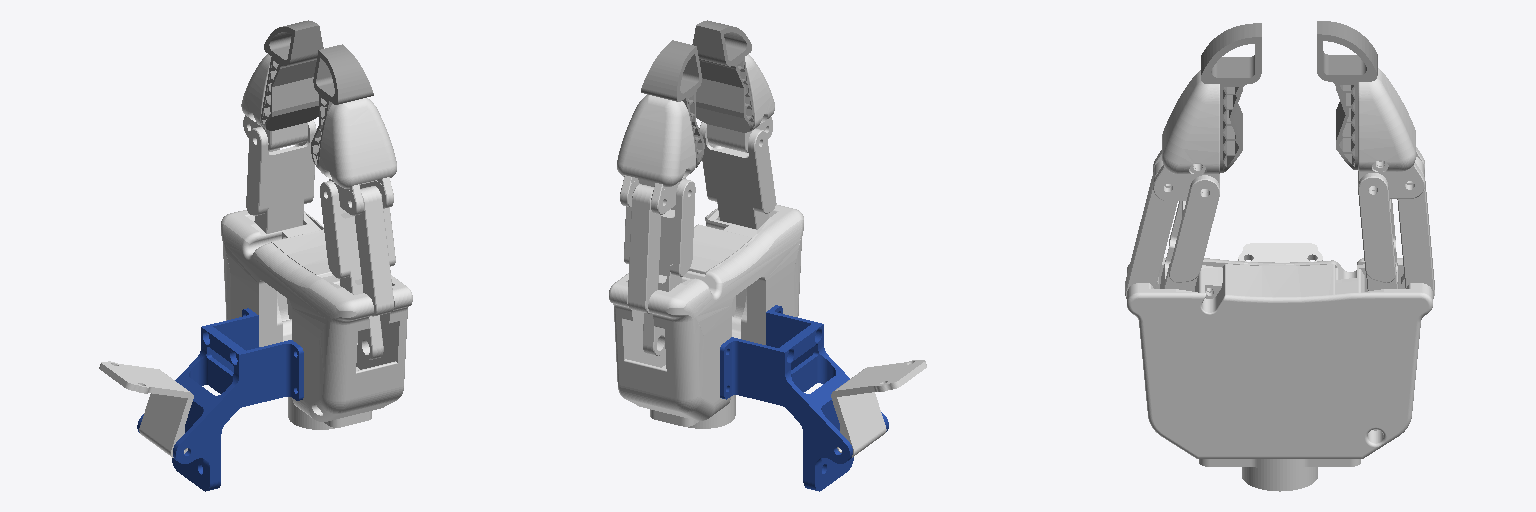
robot.urdf — gripper:
<?xml version="1.0" ?>
<robot name="gripper">
  <link name="gripper_base">
    <inertial>
      <origin xyz="0 0 0" rpy="0 0 0"/>
      <mass value="1e-09"/>
      <inertia ixx="1e-09" ixy="0" ixz="0" iyy="1e-09" iyz="0" izz="1e-09"/>
    </inertial>
  </link>
  <!-- Link interface_arm100 -->
  <link name="interface_arm100">
    <inertial>
      <origin xyz="0 0 0" rpy="0 0 0"/>
      <mass value="1e-09"/>
      <inertia ixx="1e-09" ixy="0" ixz="0" iyy="1e-09" iyz="0" izz="1e-09"/>
    </inertial>
    <!-- Part sts3215_03a_v1_7 -->
    <visual>
      <origin xyz="0.0231 2.4503e-17 -0.0330626" rpy="3.14159 1.5708 0"/>
      <geometry>
        <mesh filename="package://assets/sts3215_03a_v1__3.stl"/>
      </geometry>
      <material name="sts3215_03a_v1_7_material">
        <color rgba="0.627451 0.627451 0.627451 1"/>
      </material>
    </visual>
    <collision>
      <origin xyz="0.0231 2.4503e-17 -0.0330626" rpy="3.14159 1.5708 0"/>
      <geometry>
        <mesh filename="package://assets/sts3215_03a_v1__3.stl"/>
      </geometry>
    </collision>
    <!-- Part bottom_plate -->
    <visual>
      <origin xyz="0 1.01915e-17 -0.063609" rpy="6.12323e-17 1.5708 0"/>
      <geometry>
        <mesh filename="package://assets/bottom_plate.stl"/>
      </geometry>
      <material name="bottom_plate_material">
        <color rgba="0.901961 0.901961 0.901961 1"/>
      </material>
    </visual>
    <collision>
      <origin xyz="0 1.01915e-17 -0.063609" rpy="6.12323e-17 1.5708 0"/>
      <geometry>
        <mesh filename="package://assets/bottom_plate.stl"/>
      </geometry>
    </collision>
    <!-- Part top_plate -->
    <visual>
      <origin xyz="5.55112e-17 6.72205e-18 -0.063609" rpy="-8.26946e-16 1.5708 0"/>
      <geometry>
        <mesh filename="package://assets/top_plate.stl"/>
      </geometry>
      <material name="top_plate_material">
        <color rgba="0.901961 0.901961 0.901961 1"/>
      </material>
    </visual>
    <collision>
      <origin xyz="5.55112e-17 6.72205e-18 -0.063609" rpy="-8.26946e-16 1.5708 0"/>
      <geometry>
        <mesh filename="package://assets/top_plate.stl"/>
      </geometry>
    </collision>
    <!-- Part camera_basement -->
    <visual>
      <origin xyz="2.77556e-17 6.72205e-18 -0.063609" rpy="-8.26946e-16 1.5708 0"/>
      <geometry>
        <mesh filename="package://assets/camera_basement.stl"/>
      </geometry>
      <material name="camera_basement_material">
        <color rgba="0.231373 0.380392 0.705882 1"/>
      </material>
    </visual>
    <collision>
      <origin xyz="2.77556e-17 6.72205e-18 -0.063609" rpy="-8.26946e-16 1.5708 0"/>
      <geometry>
        <mesh filename="package://assets/camera_basement.stl"/>
      </geometry>
    </collision>
    <!-- Part camera_mobile_sup -->
    <visual>
      <origin xyz="0.060363 0.0002 0.0821203" rpy="-3.14159 -0.785398 -5.70839e-16"/>
      <geometry>
        <mesh filename="package://assets/camera_mobile_sup.stl"/>
      </geometry>
      <material name="camera_mobile_sup_material">
        <color rgba="0.917647 0.917647 0.917647 1"/>
      </material>
    </visual>
    <collision>
      <origin xyz="0.060363 0.0002 0.0821203" rpy="-3.14159 -0.785398 -5.70839e-16"/>
      <geometry>
        <mesh filename="package://assets/camera_mobile_sup.stl"/>
      </geometry>
    </collision>
    <!-- Part interface_arm100 -->
    <visual>
      <origin xyz="2.77556e-17 -2.1684e-19 -0.063609" rpy="6.12323e-17 1.5708 0"/>
      <geometry>
        <mesh filename="package://assets/interface_arm100.stl"/>
      </geometry>
      <material name="interface_arm100_material">
        <color rgba="0.901961 0.901961 0.901961 1"/>
      </material>
    </visual>
    <collision>
      <origin xyz="2.77556e-17 -2.1684e-19 -0.063609" rpy="6.12323e-17 1.5708 0"/>
      <geometry>
        <mesh filename="package://assets/interface_arm100.stl"/>
      </geometry>
    </collision>
  </link>
  <!-- Frame gripper_frame (dummy link + fixed joint) -->
  <link name="tcp_link">
    <origin xyz="0 0 0" rpy="0 -0 0"/>
    <inertial>
      <origin xyz="0 0 0" rpy="0 0 0"/>
      <mass value="1e-9"/>
      <inertia ixx="0" ixy="0" ixz="0" iyy="0" iyz="0" izz="0"/>
    </inertial>
  </link>
  <joint name="gripper_frame_fixed_joint" type="fixed">
    <origin xyz="0.0 0.0 0.123609" rpy="0 0 0"/>
    <parent link="cam"/>
    <child link="tcp_link"/>
    <axis xyz="0 0 0"/>
  </joint>
  <!-- Link internal_rod -->
  <link name="internal_rod">
    <inertial>
      <origin xyz="0 0 0" rpy="0 0 0"/>
      <mass value="1e-09"/>
      <inertia ixx="1e-09" ixy="0" ixz="0" iyy="1e-09" iyz="0" izz="1e-09"/>
    </inertial>
    <!-- Part internal_rod -->
    <visual>
      <origin xyz="-5.55112e-17 0.0325 0.008" rpy="-3.87944e-26 1.48625e-24 2.68045e-17"/>
      <geometry>
        <mesh filename="package://assets/internal_rod.stl"/>
      </geometry>
      <material name="internal_rod_material">
        <color rgba="0.901961 0.901961 0.901961 1"/>
      </material>
    </visual>
    <collision>
      <origin xyz="-5.55112e-17 0.0325 0.008" rpy="-3.87944e-26 1.48625e-24 2.68045e-17"/>
      <geometry>
        <mesh filename="package://assets/internal_rod.stl"/>
      </geometry>
    </collision>
  </link>
  <!-- Joint from interface_arm100 to internal_rod -->
  <joint name="Revolute 7" type="fixed">
    <origin xyz="-0.0088 -0.0325 -0.063609" rpy="-1.5708 1.27489 -1.5708"/>
    <parent link="interface_arm100"/>
    <child link="internal_rod"/>
    <axis xyz="0 0 1"/>
    <limit effort="10" velocity="10" lower="-3.141592653589793" upper="3.141592653589793"/>
  </joint>
  <!-- Link external_rod -->
  <link name="external_rod">
    <inertial>
      <origin xyz="0 0 0" rpy="0 0 0"/>
      <mass value="1e-09"/>
      <inertia ixx="1e-09" ixy="0" ixz="0" iyy="1e-09" iyz="0" izz="1e-09"/>
    </inertial>
    <!-- Part external_rod -->
    <visual>
      <origin xyz="2.77556e-17 0.044 -0.004" rpy="-1.15988e-24 2.30841e-24 -2.90443e-17"/>
      <geometry>
        <mesh filename="package://assets/external_rod.stl"/>
      </geometry>
      <material name="external_rod_material">
        <color rgba="0.901961 0.901961 0.901961 1"/>
      </material>
    </visual>
    <collision>
      <origin xyz="2.77556e-17 0.044 -0.004" rpy="-1.15988e-24 2.30841e-24 -2.90443e-17"/>
      <geometry>
        <mesh filename="package://assets/external_rod.stl"/>
      </geometry>
    </collision>
  </link>
  <!-- Link distal_shell -->
  <link name="distal_shell">
    <inertial>
      <origin xyz="0 0 0" rpy="0 0 0"/>
      <mass value="1e-09"/>
      <inertia ixx="1e-09" ixy="0" ixz="0" iyy="1e-09" iyz="0" izz="1e-09"/>
    </inertial>
    <!-- Part removable_tip -->
    <visual>
      <origin xyz="-0.034641 0.024 -0.0049" rpy="2.22045e-16 -3.34777e-16 1.11936e-25"/>
      <geometry>
        <mesh filename="package://assets/removable_tip.stl"/>
      </geometry>
      <material name="removable_tip_material">
        <color rgba="0.901961 0.901961 0.901961 1"/>
      </material>
    </visual>
    <collision>
      <origin xyz="-0.034641 0.024 -0.0049" rpy="2.22045e-16 -3.34777e-16 1.11936e-25"/>
      <geometry>
        <mesh filename="package://assets/removable_tip.stl"/>
      </geometry>
    </collision>
    <!-- Part distal_rod -->
    <visual>
      <origin xyz="-0.034641 0.024 -0.0048" rpy="5.40089e-25 7.43447e-25 -7.53612e-25"/>
      <geometry>
        <mesh filename="package://assets/distal_rod.stl"/>
      </geometry>
      <material name="distal_rod_material">
        <color rgba="0.901961 0.901961 0.901961 1"/>
      </material>
    </visual>
    <collision>
      <origin xyz="-0.034641 0.024 -0.0048" rpy="5.40089e-25 7.43447e-25 -7.53612e-25"/>
      <geometry>
        <mesh filename="package://assets/distal_rod.stl"/>
      </geometry>
    </collision>
    <!-- Part pointy_tip_support -->
    <visual>
      <origin xyz="-0.0346303 0.02375 -0.0049" rpy="-4.44089e-16 -2.78697e-16 5.60793e-17"/>
      <geometry>
        <mesh filename="package://assets/pointy_tip_support.stl"/>
      </geometry>
      <material name="pointy_tip_support_material">
        <color rgba="0.647059 0.647059 0.647059 1"/>
      </material>
    </visual>
    <collision>
      <origin xyz="-0.0346303 0.02375 -0.0049" rpy="-4.44089e-16 -2.78697e-16 5.60793e-17"/>
      <geometry>
        <mesh filename="package://assets/pointy_tip_support.stl"/>
      </geometry>
    </collision>
    <!-- Part distal_shell -->
    <visual>
      <origin xyz="-0.034641 0.024 -0.0051" rpy="2.22045e-16 -3.3475e-16 6.72905e-24"/>
      <geometry>
        <mesh filename="package://assets/distal_shell.stl"/>
      </geometry>
      <material name="distal_shell_material">
        <color rgba="0.901961 0.901961 0.901961 1"/>
      </material>
    </visual>
    <collision>
      <origin xyz="-0.034641 0.024 -0.0051" rpy="2.22045e-16 -3.3475e-16 6.72905e-24"/>
      <geometry>
        <mesh filename="package://assets/distal_shell.stl"/>
      </geometry>
    </collision>
  </link>
  <!-- Joint from external_rod to distal_shell -->
  <joint name="Revolute 9" type="fixed">
    <origin xyz="0.034641 0.02 -0.008" rpy="-3.14159 5.60794e-17 0.751294"/>
    <parent link="external_rod"/>
    <child link="distal_shell"/>
    <axis xyz="0 0 1"/>
    <limit effort="10" velocity="10" lower="-3.141592653589793" upper="3.141592653589793"/>
  </joint>
  <!-- Joint from interface_arm100 to external_rod -->
  <joint name="Revolute 8" type="fixed">
    <origin xyz="-0.0042 -0.044 -0.063609" rpy="-1.5708 0.819502 1.5708"/>
    <parent link="interface_arm100"/>
    <child link="external_rod"/>
    <axis xyz="0 0 1"/>
    <limit effort="10" velocity="10" lower="-3.141592653589793" upper="3.141592653589793"/>
  </joint>
  <!-- Link internal_rod_2 -->
  <link name="internal_rod_2">
    <inertial>
      <origin xyz="0 0 0" rpy="0 0 0"/>
      <mass value="1e-09"/>
      <inertia ixx="1e-09" ixy="0" ixz="0" iyy="1e-09" iyz="0" izz="1e-09"/>
    </inertial>
    <!-- Part internal_rod_2 -->
    <visual>
      <origin xyz="0 0.0325 -0.008" rpy="1.83078e-24 -4.24704e-26 -6.94757e-18"/>
      <geometry>
        <mesh filename="package://assets/internal_rod.stl"/>
      </geometry>
      <material name="internal_rod_2_material">
        <color rgba="0.901961 0.901961 0.901961 1"/>
      </material>
    </visual>
    <collision>
      <origin xyz="0 0.0325 -0.008" rpy="1.83078e-24 -4.24704e-26 -6.94757e-18"/>
      <geometry>
        <mesh filename="package://assets/internal_rod.stl"/>
      </geometry>
    </collision>
  </link>
  <!-- Joint from interface_arm100 to internal_rod_2 -->
  <joint name="Revolute 14" type="fixed">
    <origin xyz="-0.0088 0.0325 -0.063609" rpy="-1.5708 1.12911 1.5708"/>
    <parent link="interface_arm100"/>
    <child link="internal_rod_2"/>
    <axis xyz="0 0 1"/>
    <limit effort="10" velocity="10" lower="-3.141592653589793" upper="3.141592653589793"/>
  </joint>
  <!-- Link external_rod_2 -->
  <link name="external_rod_2">
    <inertial>
      <origin xyz="0 0 0" rpy="0 0 0"/>
      <mass value="1e-09"/>
      <inertia ixx="1e-09" ixy="0" ixz="0" iyy="1e-09" iyz="0" izz="1e-09"/>
    </inertial>
    <!-- Part external_rod_2 -->
    <visual>
      <origin xyz="0 0.044 -0.004" rpy="5.48982e-26 -2.12352e-25 -1.01668e-17"/>
      <geometry>
        <mesh filename="package://assets/external_rod.stl"/>
      </geometry>
      <material name="external_rod_2_material">
        <color rgba="0.901961 0.901961 0.901961 1"/>
      </material>
    </visual>
    <collision>
      <origin xyz="0 0.044 -0.004" rpy="5.48982e-26 -2.12352e-25 -1.01668e-17"/>
      <geometry>
        <mesh filename="package://assets/external_rod.stl"/>
      </geometry>
    </collision>
  </link>
  <!-- Link distal_shell_2 -->
  <link name="distal_shell_2">
    <inertial>
      <origin xyz="0 0 0" rpy="0 0 0"/>
      <mass value="1e-09"/>
      <inertia ixx="1e-09" ixy="0" ixz="0" iyy="1e-09" iyz="0" izz="1e-09"/>
    </inertial>
    <!-- Part pointy_tip_support_2 -->
    <visual>
      <origin xyz="-0.0346303 0.02375 0.0049" rpy="-2.76863e-24 -1.66578e-16 1.04083e-17"/>
      <geometry>
        <mesh filename="package://assets/pointy_tip_support.stl"/>
      </geometry>
      <material name="pointy_tip_support_2_material">
        <color rgba="0.647059 0.647059 0.647059 1"/>
      </material>
    </visual>
    <collision>
      <origin xyz="-0.0346303 0.02375 0.0049" rpy="-2.76863e-24 -1.66578e-16 1.04083e-17"/>
      <geometry>
        <mesh filename="package://assets/pointy_tip_support.stl"/>
      </geometry>
    </collision>
    <!-- Part distal_rod_2 -->
    <visual>
      <origin xyz="-0.034641 0.024 0.0048" rpy="5.40089e-25 -7.43447e-25 2.36377e-24"/>
      <geometry>
        <mesh filename="package://assets/distal_rod.stl"/>
      </geometry>
      <material name="distal_rod_2_material">
        <color rgba="0.901961 0.901961 0.901961 1"/>
      </material>
    </visual>
    <collision>
      <origin xyz="-0.034641 0.024 0.0048" rpy="5.40089e-25 -7.43447e-25 2.36377e-24"/>
      <geometry>
        <mesh filename="package://assets/distal_rod.stl"/>
      </geometry>
    </collision>
    <!-- Part distal_shell_2 -->
    <visual>
      <origin xyz="-0.034641 0.024 0.0051" rpy="5.40089e-25 -1.89597e-20 3.46945e-18"/>
      <geometry>
        <mesh filename="package://assets/distal_shell.stl"/>
      </geometry>
      <material name="distal_shell_2_material">
        <color rgba="0.901961 0.901961 0.901961 1"/>
      </material>
    </visual>
    <collision>
      <origin xyz="-0.034641 0.024 0.0051" rpy="5.40089e-25 -1.89597e-20 3.46945e-18"/>
      <geometry>
        <mesh filename="package://assets/distal_shell.stl"/>
      </geometry>
    </collision>
    <!-- Part removable_tip_2 -->
    <visual>
      <origin xyz="-0.034641 0.024 0.0049" rpy="1.54293e-23 -1.54999e-15 -6.60062e-16"/>
      <geometry>
        <mesh filename="package://assets/removable_tip.stl"/>
      </geometry>
      <material name="removable_tip_2_material">
        <color rgba="0.901961 0.901961 0.901961 1"/>
      </material>
    </visual>
    <collision>
      <origin xyz="-0.034641 0.024 0.0049" rpy="1.54293e-23 -1.54999e-15 -6.60062e-16"/>
      <geometry>
        <mesh filename="package://assets/removable_tip.stl"/>
      </geometry>
    </collision>
  </link>
  <!-- Joint from external_rod_2 to distal_shell_2 -->
  <joint name="Revolute 16" type="fixed">
    <origin xyz="0.034641 0.02 -0.008" rpy="1.11022e-15 -1.1989e-23 0.441689"/>
    <parent link="external_rod_2"/>
    <child link="distal_shell_2"/>
    <axis xyz="0 0 1"/>
    <limit effort="10" velocity="10" lower="-3.141592653589793" upper="3.141592653589793"/>
  </joint>
  <!-- Joint from interface_arm100 to external_rod_2 -->
  <joint name="Revolute 15" type="fixed">
    <origin xyz="-0.0042 0.044 -0.063609" rpy="-1.5708 1.12911 1.5708"/>
    <parent link="interface_arm100"/>
    <child link="external_rod_2"/>
    <axis xyz="0 0 1"/>
    <limit effort="10" velocity="10" lower="-3.141592653589793" upper="3.141592653589793"/>
  </joint>
  <!-- Link cam -->
  <link name="cam">
    <inertial>
      <origin xyz="0 0 0" rpy="0 0 0"/>
      <mass value="1e-09"/>
      <inertia ixx="1e-09" ixy="0" ixz="0" iyy="1e-09" iyz="0" izz="1e-09"/>
    </inertial>
    <!-- Part cam -->
    <visual>
      <origin xyz="-0.0025159 -0.0178661 -0.00415" rpy="-3.33953e-25 -4.7303e-24 -1.7107"/>
      <geometry>
        <mesh filename="package://assets/cam.stl"/>
      </geometry>
      <material name="cam_material">
        <color rgba="0.901961 0.901961 0.901961 1"/>
      </material>
    </visual>
    <collision>
      <origin xyz="-0.0025159 -0.0178661 -0.00415" rpy="-3.33953e-25 -4.7303e-24 -1.7107"/>
      <geometry>
        <mesh filename="package://assets/cam.stl"/>
      </geometry>
    </collision>
  </link>
  <!-- Joint from interface_arm100 to cam -->
  <joint name="gripper" type="revolute">
    <origin xyz="0.0029 1.4962e-17 -0.0455626" rpy="0 1.5708 0"/>
    <parent link="interface_arm100"/>
    <child link="cam"/>
    <axis xyz="0 0 1"/>
    <limit effort="10" velocity="2" lower="-3.141592653589793" upper="3.141592653589793"/>
  </joint>
  <!-- Joint from interface_arm100 to cam -->
  <joint name="interface" type="fixed">
    <origin xyz="0.0 0.0 0.0" rpy="0 3.141592 0"/>
    <parent link="gripper_base"/>
    <child link="interface_arm100"/>
  </joint>
</robot>

--- Facts derived from the render (not from the file) ---
The picture shows the robot from 3 angles, left to right: view 1: azimuth 30°, elevation 25°; view 2: azimuth 150°, elevation 25°; view 3: azimuth 270°, elevation 25°; orthographic projection.
Robot: gripper — 10 links, 9 joints (1 revolute, 8 fixed); root link gripper_base; default pose: all joints at 0.
Links seen in each view (by area): view 1: interface_arm100, distal_shell, distal_shell_2, internal_rod_2, internal_rod, external_rod; view 2: interface_arm100, distal_shell_2, distal_shell, internal_rod, internal_rod_2, external_rod_2; view 3: interface_arm100, distal_shell, distal_shell_2, internal_rod, internal_rod_2, external_rod, external_rod_2.
Link boxes in pixels (x1,y1,x2,y2): interface_arm100: [99, 210, 412, 491]; distal_shell: [311, 44, 396, 215]; distal_shell_2: [241, 20, 323, 150]; internal_rod_2: [246, 120, 316, 233]; internal_rod: [320, 181, 395, 359]; external_rod: [355, 186, 393, 316]; interface_arm100: [609, 204, 926, 491]; distal_shell_2: [617, 40, 704, 214]; distal_shell: [692, 20, 774, 152]; internal_rod: [699, 122, 775, 229]; internal_rod_2: [624, 179, 695, 355]; external_rod_2: [628, 184, 660, 313]; interface_arm100: [1127, 243, 1432, 491]; distal_shell: [1153, 23, 1261, 200]; distal_shell_2: [1317, 21, 1424, 198]; internal_rod: [1160, 175, 1219, 291]; internal_rod_2: [1358, 173, 1398, 290]; external_rod: [1125, 160, 1177, 298]; external_rod_2: [1397, 157, 1434, 298].
Bounding box of the posed robot: 0.1038 × 0.097 × 0.1691 m (x, y, z).
Meshes: 13 distinct files referenced, 18 mesh visuals loaded (12 binary STL); not drawn: 1 (reference not matched to a file when rendering).
